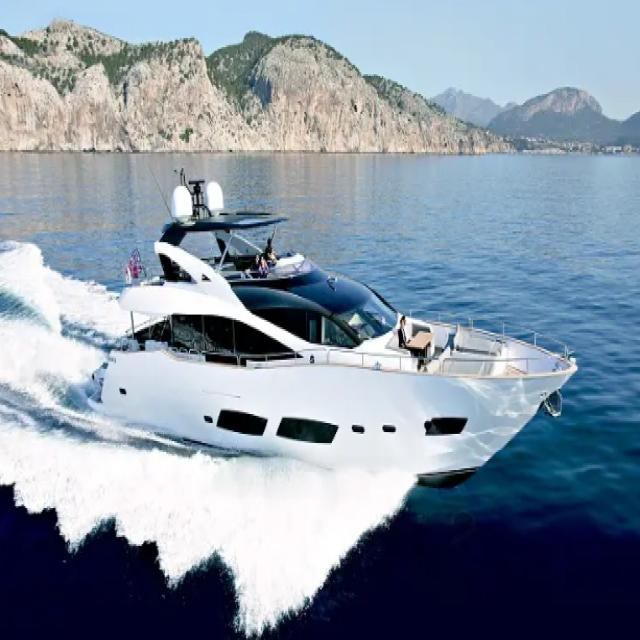houseboat: (92, 162, 577, 485)
